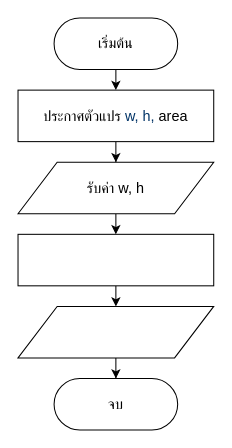
Some shapes in this 232 by 448 pixel diagram are drawn without their labels. The centre of each missing label's shape, as x and y in pixels:
area = 0.5 x w x h: the point at 115,259
แสดง area: the point at 115,331
